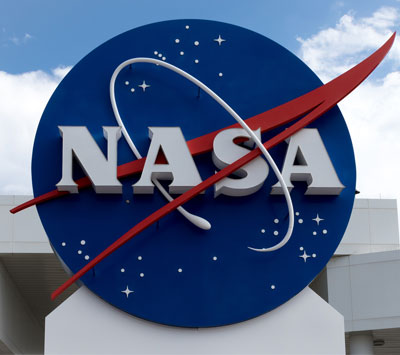NASA: (6, 16, 400, 330)
